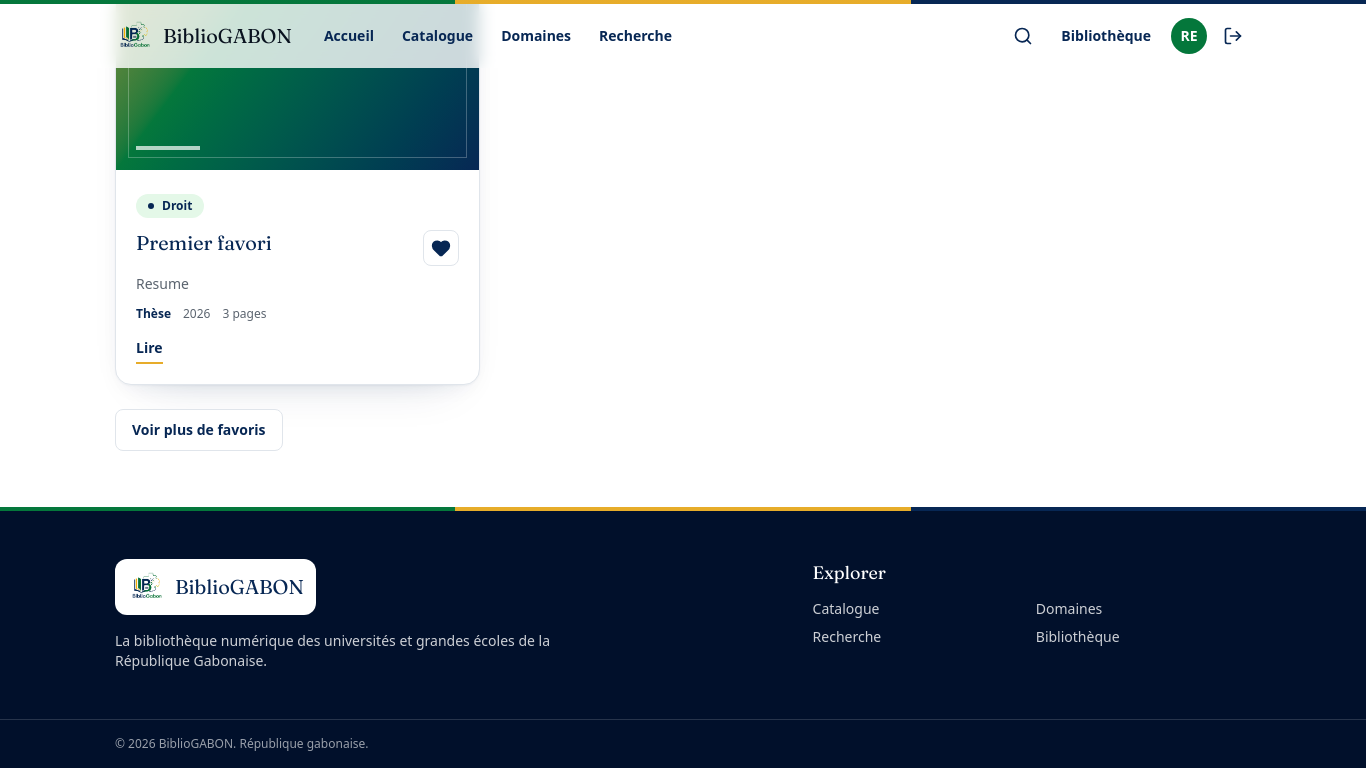
Test: LibrarySection › uses API counts and incrementally loads all library result pages
The width and height of the screenshot is (1366, 768).
(page scrolled)
Expected: the link "Premier favori" is shown, [136, 230, 272, 255]
Expected: the text "Deuxieme lecture" is not shown
Click the button "Voir plus de favoris".
click(199, 430)  # box [115, 409, 282, 451]
(page scrolled)
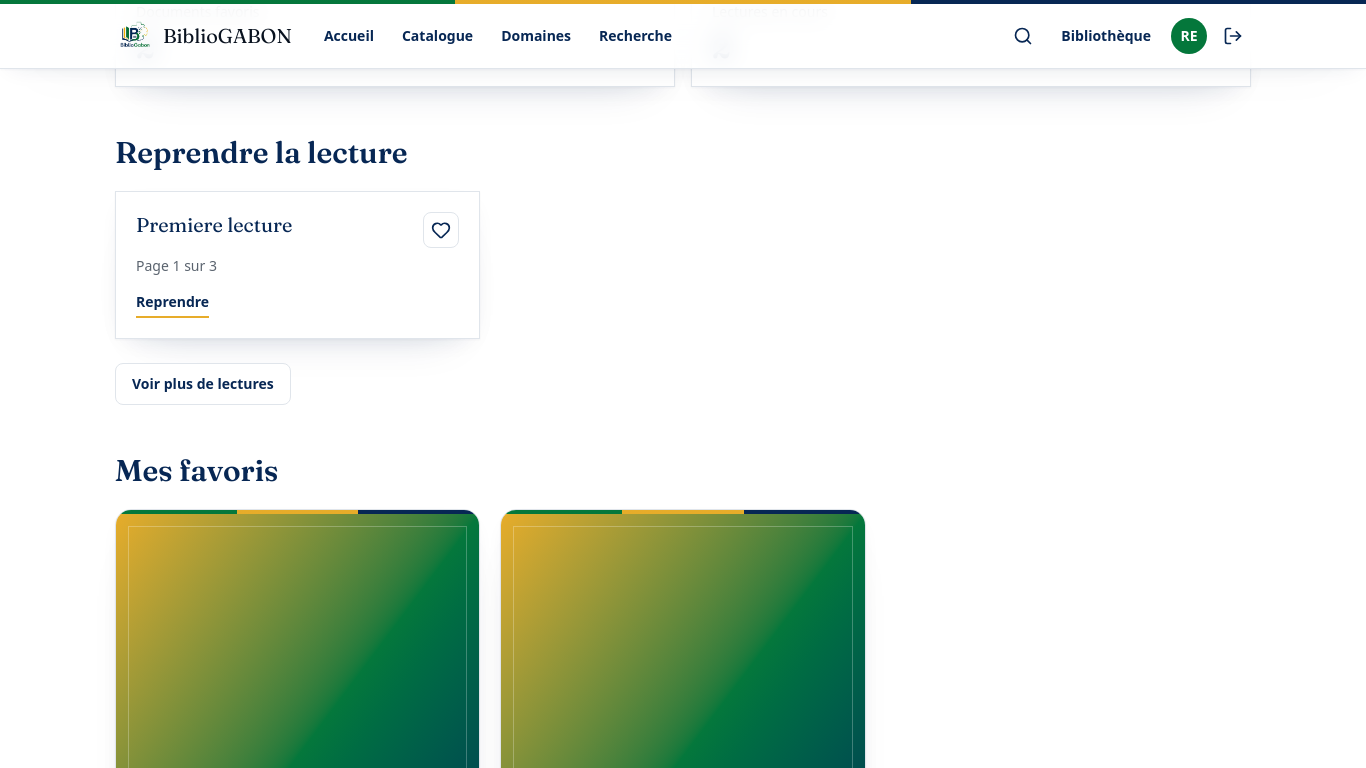
Click the button "Voir plus de lectures".
click(203, 384)  # box [115, 363, 291, 405]
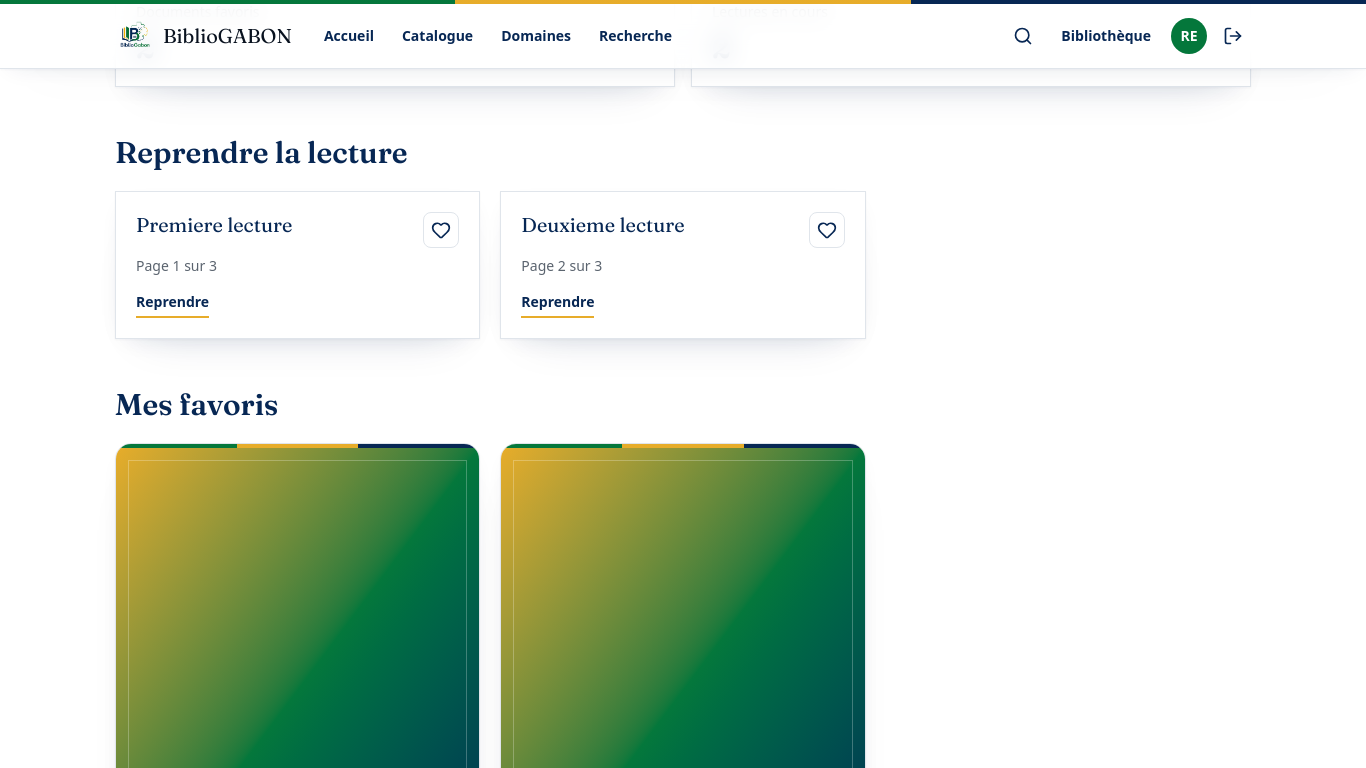
Expected: the heading "Premiere lecture" is shown, [136, 212, 292, 237]
Result: the heading "Deuxieme lecture" is shown at [521, 212, 684, 237]
